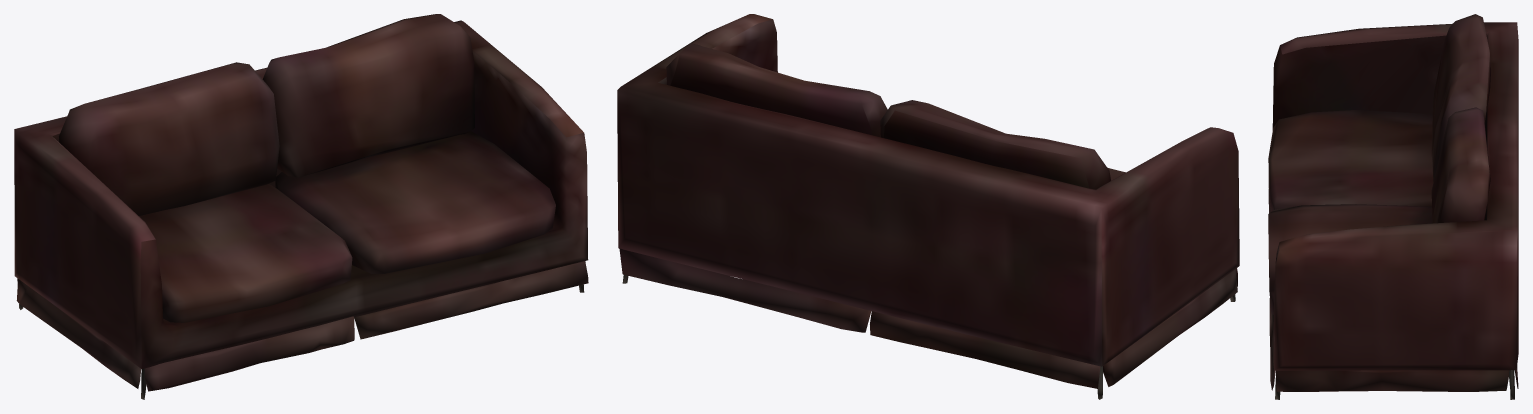
The model's file is CouchWatlas.fbx.
The picture shows the model from 3 angles, left to right: view 1: azimuth 30°, elevation 25°; view 2: azimuth 150°, elevation 25°; view 3: azimuth 270°, elevation 25°; orthographic projection. The views are drawn at different scales.
Visible parts, largest first — view 1: couch02_lo; view 2: couch02_lo; view 3: couch02_lo.
Part boxes in pixels (box(x1,y1,x2,y2)): couch02_lo: box(14, 14, 588, 399); couch02_lo: box(617, 14, 1239, 399); couch02_lo: box(1268, 14, 1518, 399).
Bounding box in the file's own units: 202 × 90.08 × 102.
Materials: 1 (1 with a texture image).
